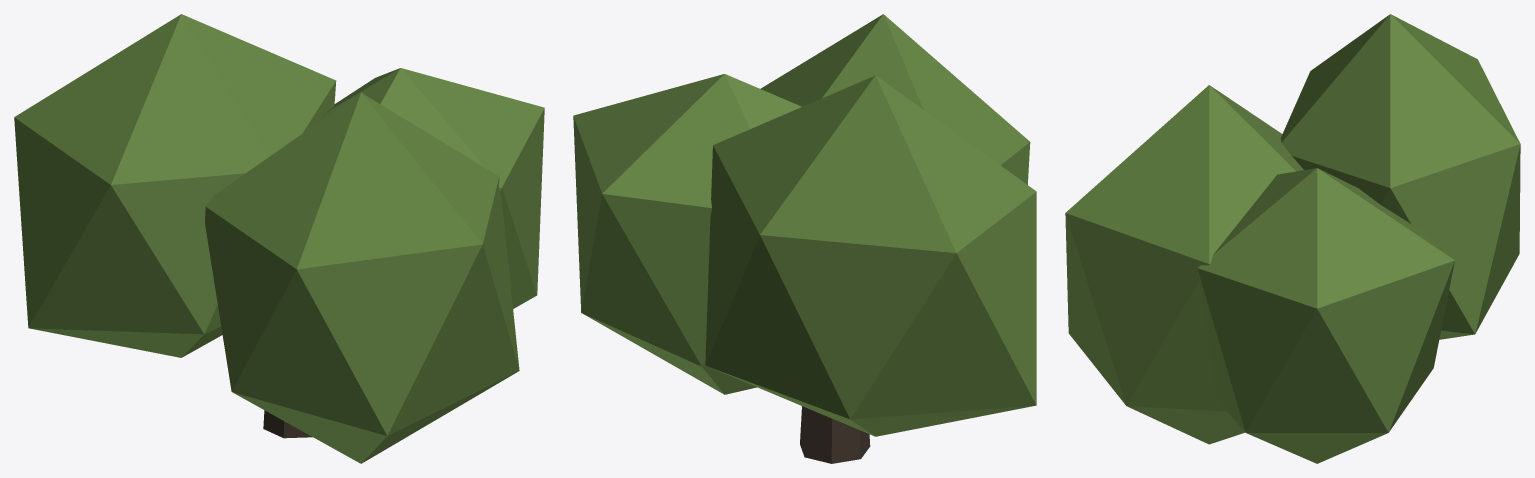
The model's file is bush_a.glb.
The picture shows the model from 3 angles, left to right: view 1: azimuth 30°, elevation 25°; view 2: azimuth 150°, elevation 25°; view 3: azimuth 270°, elevation 25°; orthographic projection. The views are drawn at different scales.
Visible parts, largest first — view 1: bush_a; view 2: bush_a; view 3: bush_a.
Boxes of the visible parts, box(x1,y1,x2,y2) form: bush_a: box(14, 14, 544, 463); bush_a: box(573, 14, 1036, 463); bush_a: box(1065, 14, 1520, 463).
Size of the model in its own units: 1.28 by 1.03 by 1.09.
